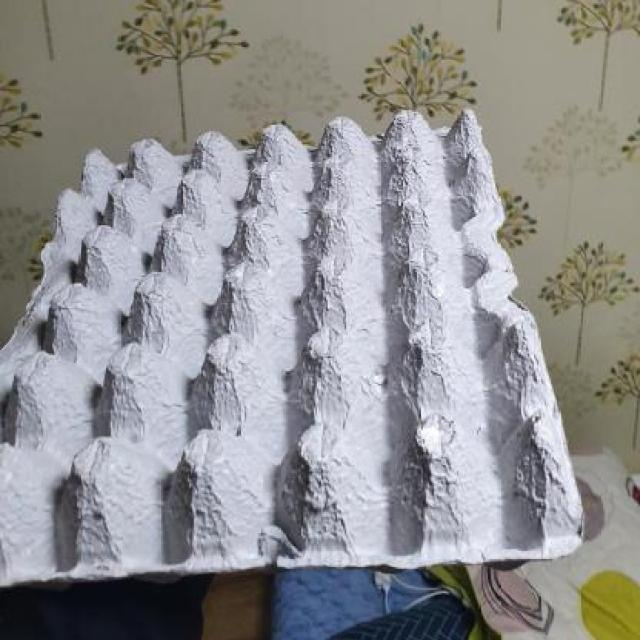box: (0, 84, 605, 595)
